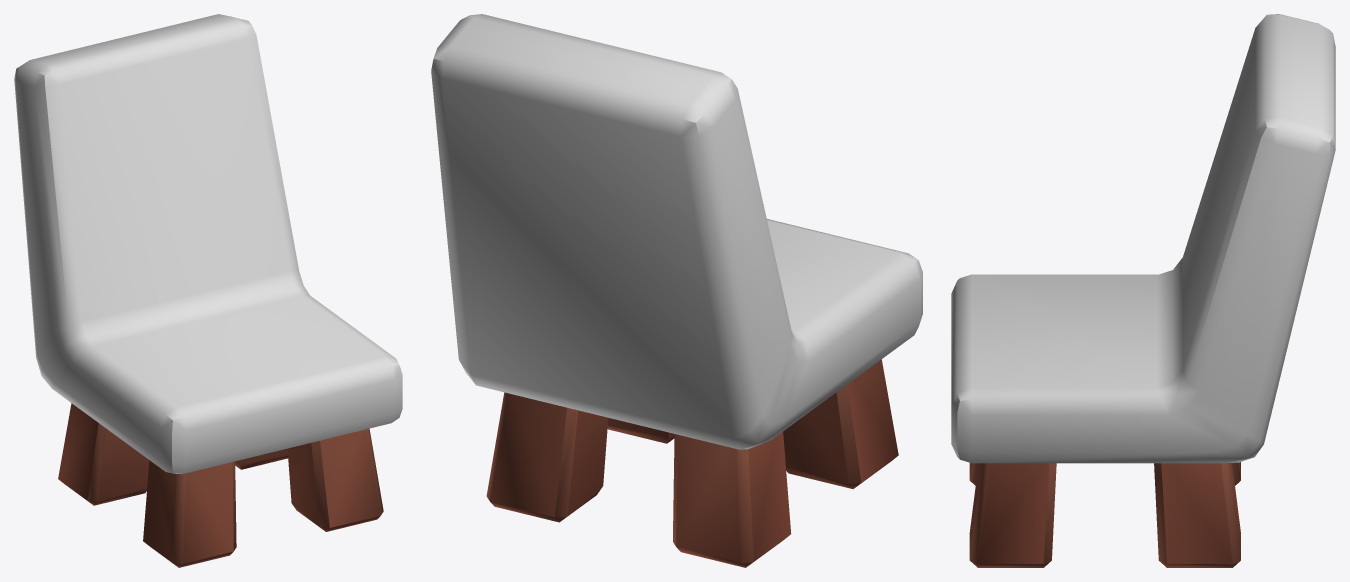
File: chairC.glb
3 views of the same model, side by side, from view 1: azimuth 30°, elevation 25°; view 2: azimuth 150°, elevation 25°; view 3: azimuth 270°, elevation 25° (orthographic). The views are drawn at different scales.
Visible parts, largest first — view 1: chairC_colourA, chairC_colourB; view 2: chairC_colourA, chairC_colourB; view 3: chairC_colourA, chairC_colourB.
Part boxes in pixels (<box>): chairC_colourA: <box>14,14,402,473</box>; chairC_colourB: <box>58,403,383,567</box>; chairC_colourA: <box>431,14,922,449</box>; chairC_colourB: <box>486,359,898,567</box>; chairC_colourA: <box>951,14,1335,463</box>; chairC_colourB: <box>969,462,1240,567</box>.
Bounding box in the file's own units: 0.75 × 1.2 × 0.9356.
2 materials, 1 textured.
